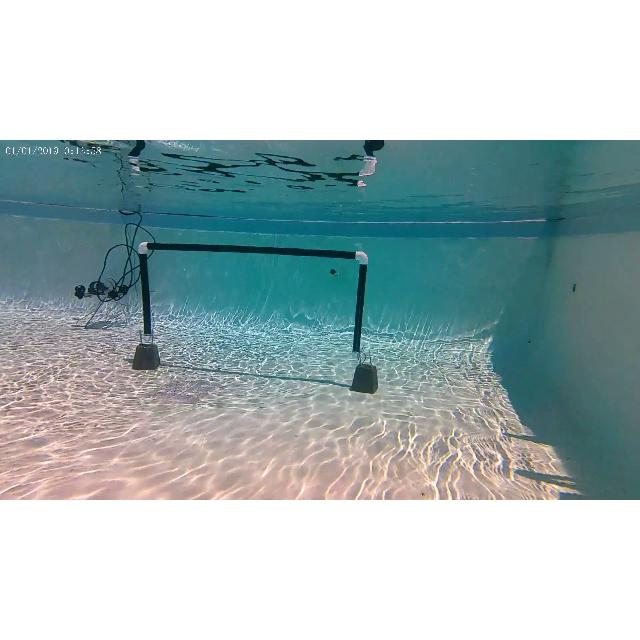prequal gate: (138, 242, 368, 354)
prequal gate leg l: (134, 238, 164, 354)
prequal gate leg r: (348, 240, 372, 366)
